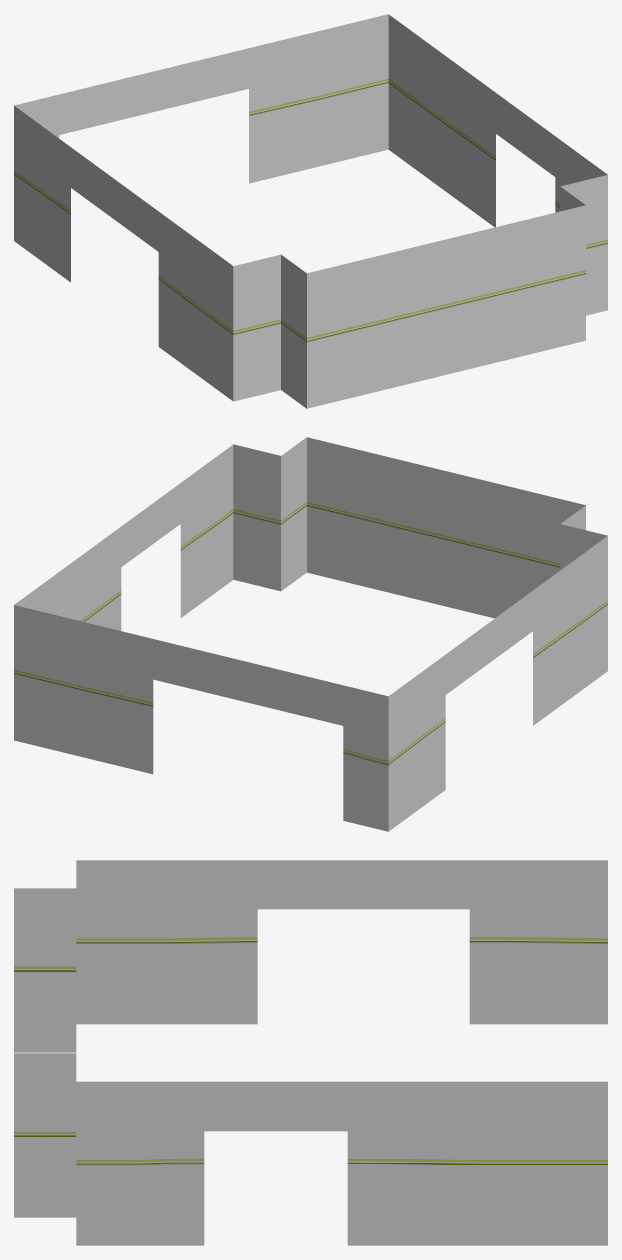
Rendered from wall_remake.FBX.
3 views of the same model, one above another, from view 1: azimuth 30°, elevation 25°; view 2: azimuth 150°, elevation 25°; view 3: azimuth 270°, elevation 25° (orthographic). The views are drawn at different scales.
Parts seen in each view (by area): view 1: wall; view 2: wall; view 3: wall.
Boxes of the visible parts, x1,y1,x2,y2 form: wall: (14,14,607,408); wall: (14,437,607,831); wall: (14,860,607,1245).
Size of the model in its own units: 8.68 by 3 by 9.84.
